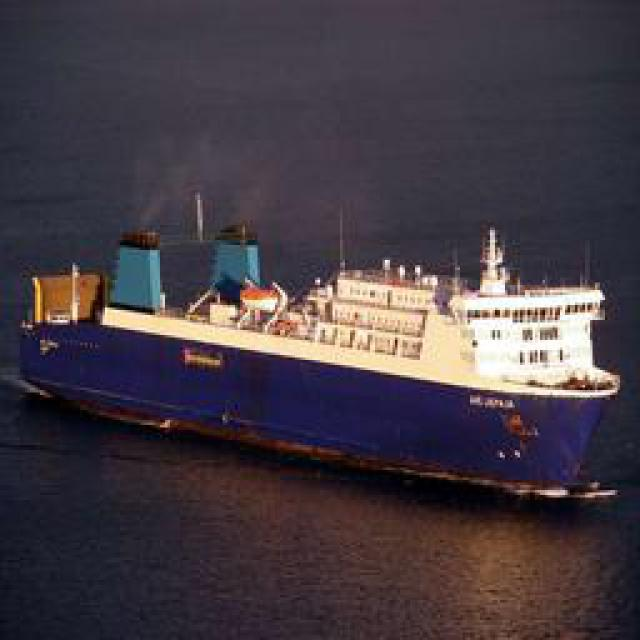Ship: (22, 200, 622, 510)
